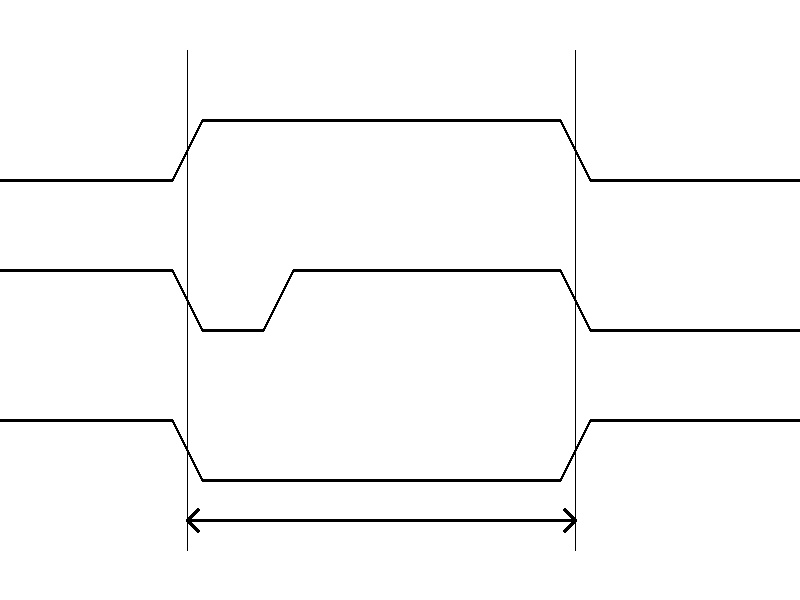double_arrow: (187, 505, 575, 535)
